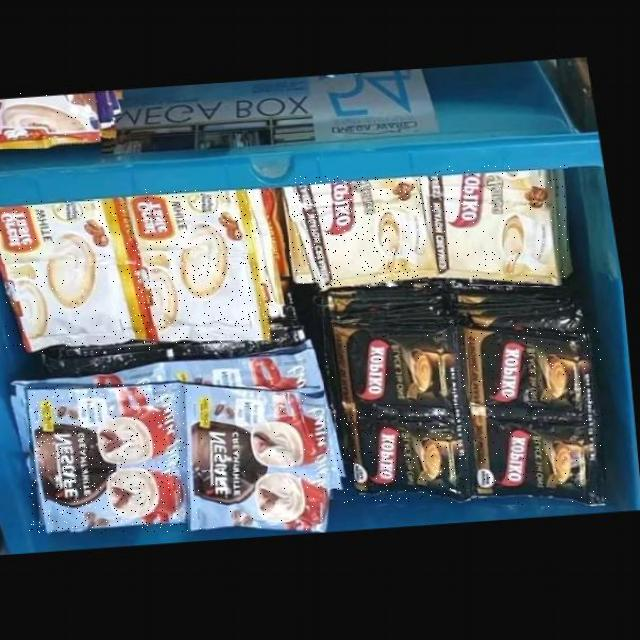wrapper: (30, 383, 193, 533), (190, 385, 335, 531), (289, 176, 444, 287), (428, 165, 568, 286), (5, 251, 159, 354), (471, 410, 609, 507), (337, 407, 476, 502), (139, 249, 276, 342), (462, 325, 602, 415), (325, 321, 466, 408), (0, 200, 141, 264), (131, 189, 263, 252), (0, 92, 111, 149)
